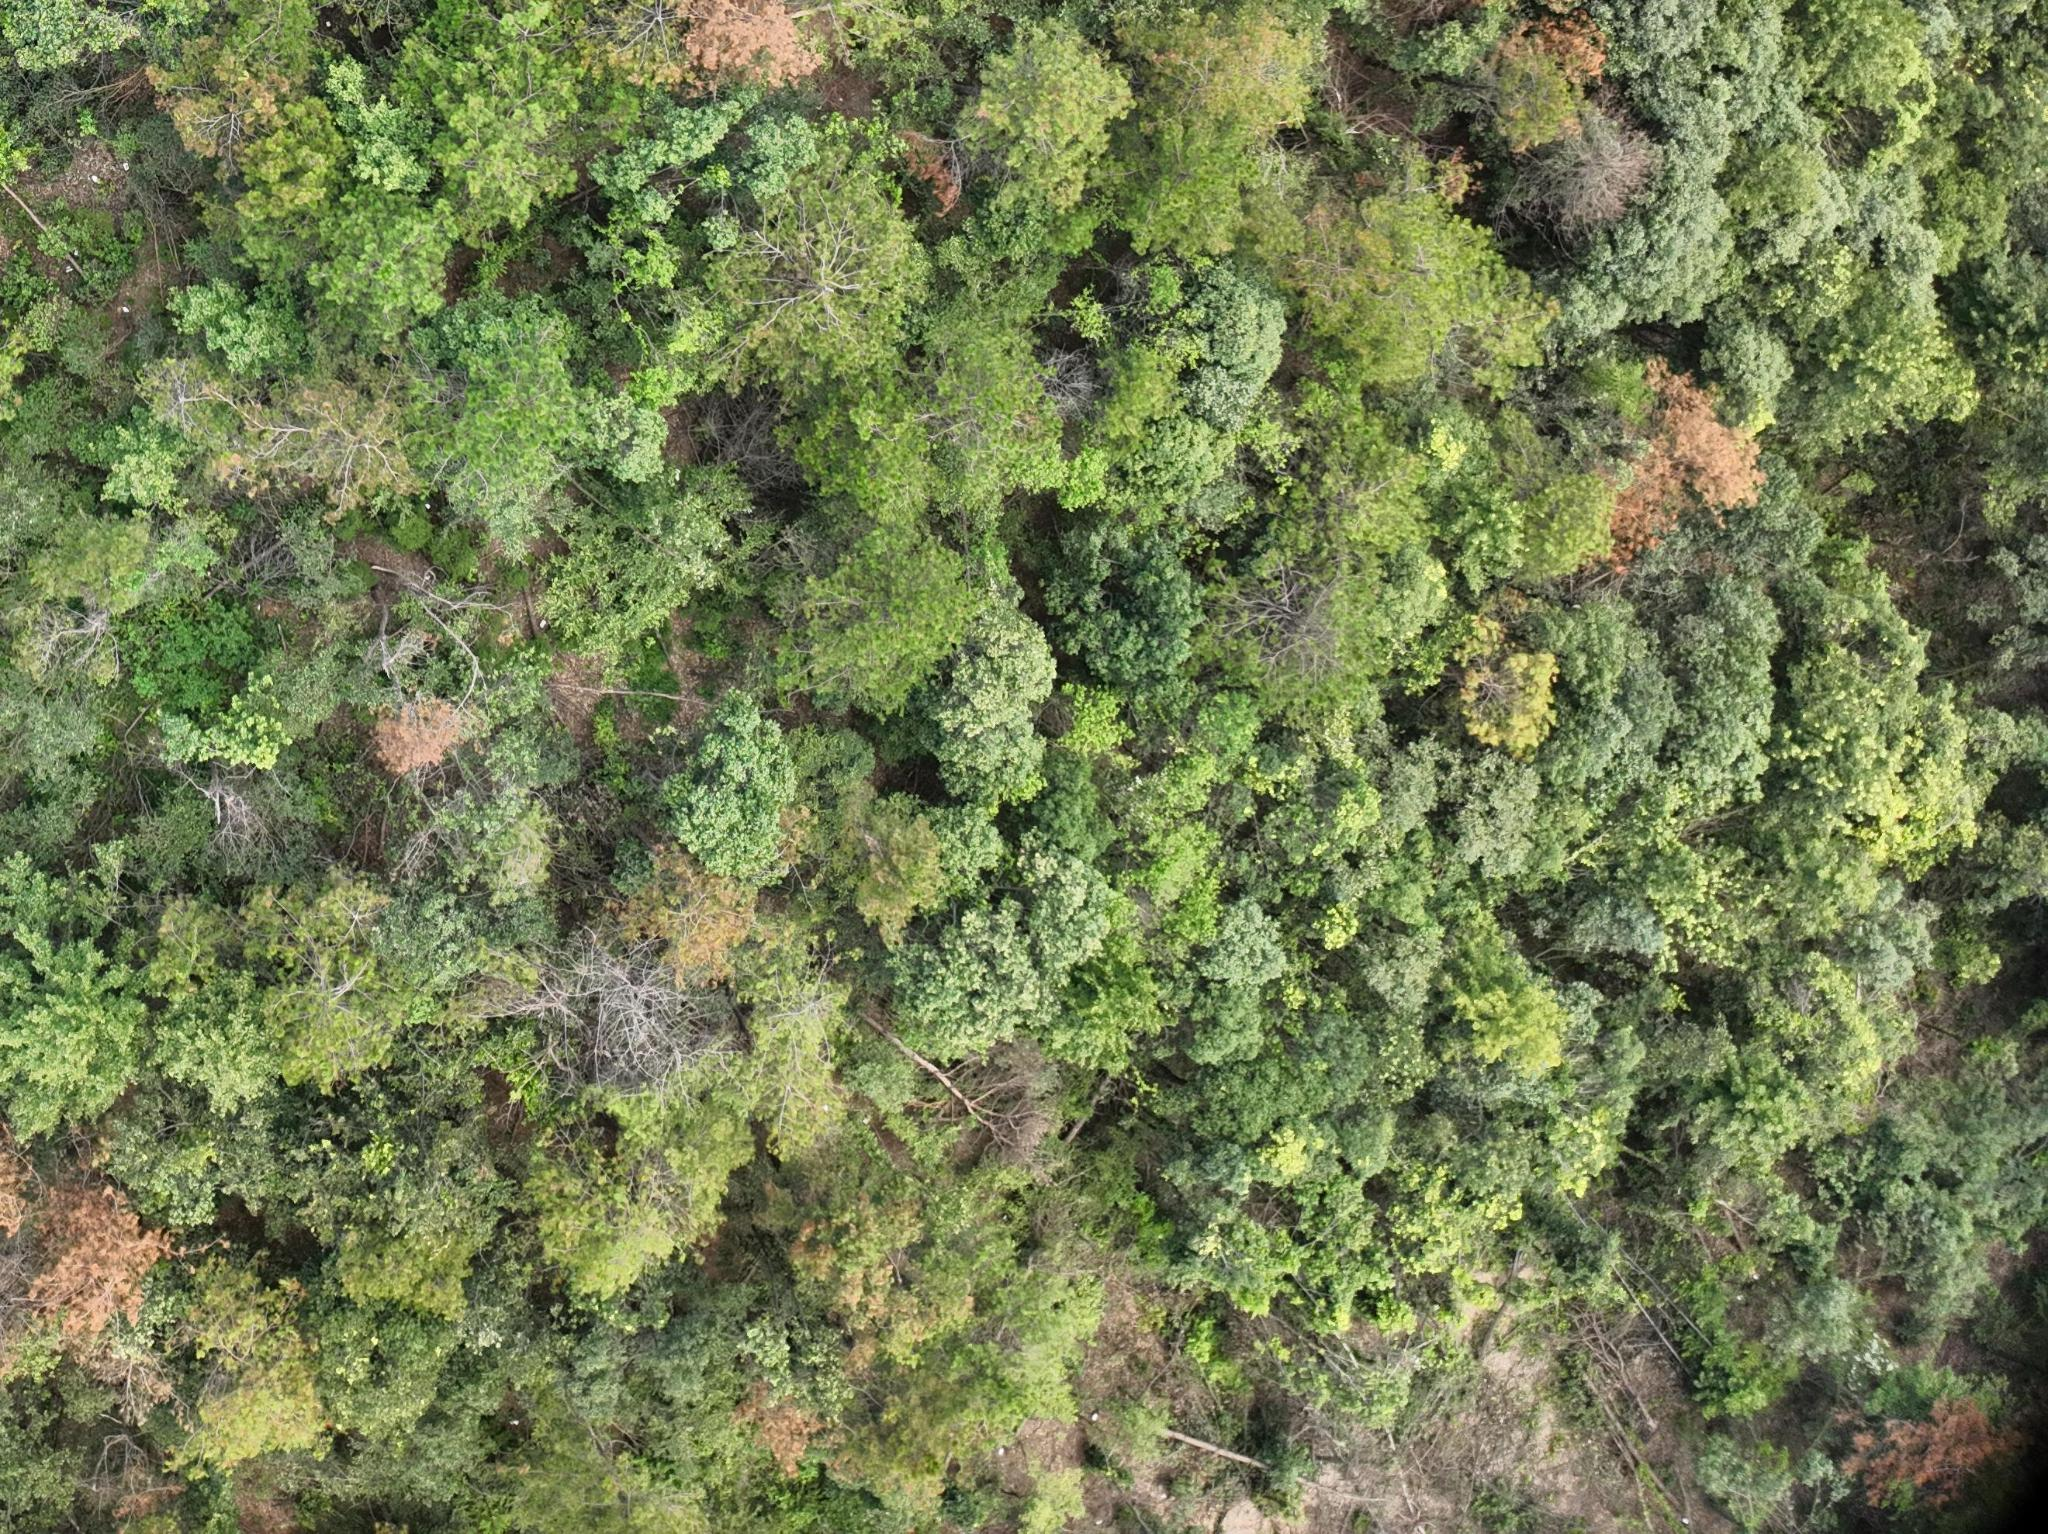dead: (516, 920, 732, 1083), (1524, 95, 1653, 232), (367, 691, 467, 775)
heavy: (1610, 358, 1763, 588), (21, 1157, 163, 1347), (1835, 1391, 2016, 1500), (664, 3, 828, 98), (1503, 18, 1613, 69)
